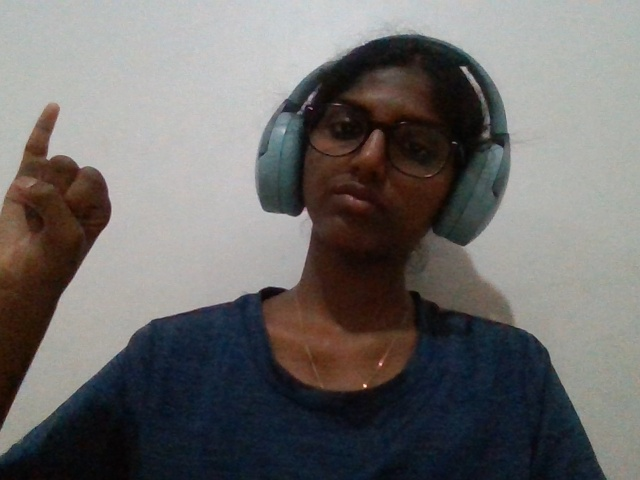I: (5, 85, 120, 343)
